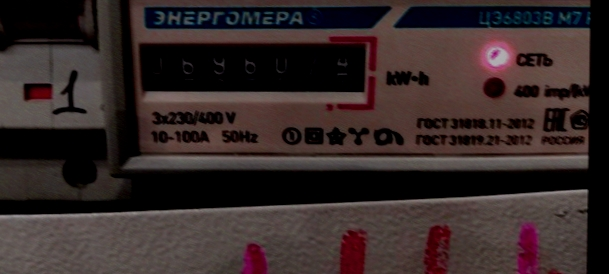0: (146, 52, 164, 78), (272, 51, 288, 77)
4: (334, 51, 348, 72)
5: (334, 73, 348, 92)
6: (177, 52, 195, 77), (241, 51, 257, 78)
7: (303, 53, 319, 79)
9: (209, 52, 226, 79)
screen: (131, 32, 378, 113)
